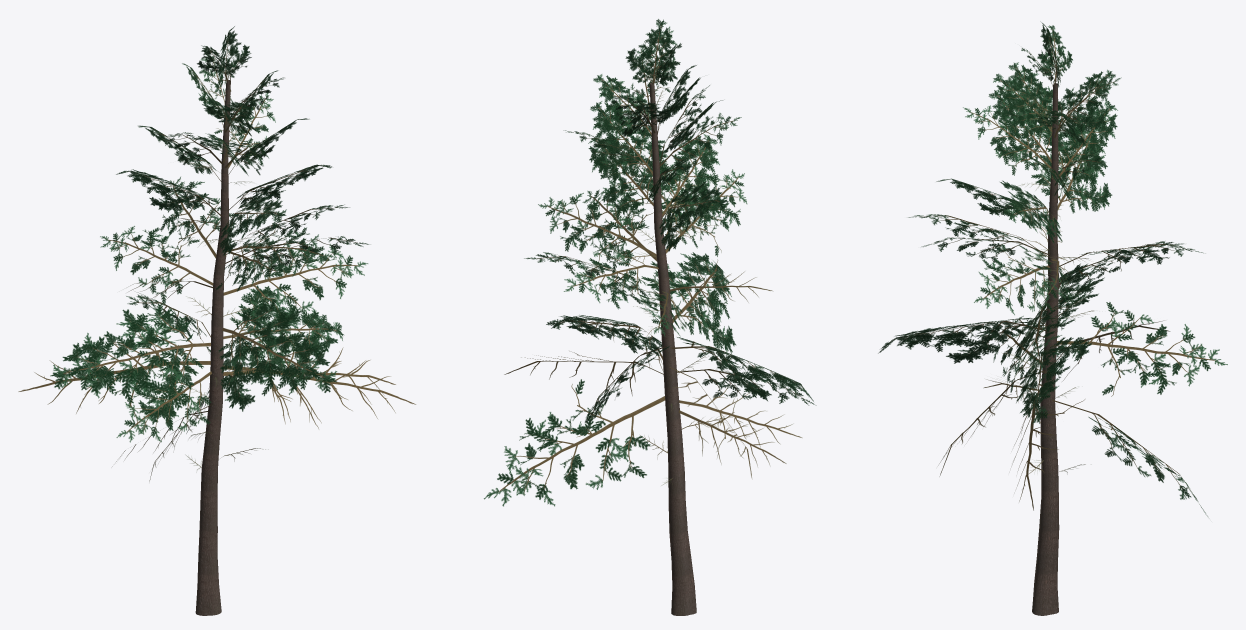
The picture shows the model from 3 angles, left to right: view 1: azimuth 30°, elevation 25°; view 2: azimuth 150°, elevation 25°; view 3: azimuth 270°, elevation 25°; orthographic projection. The views are drawn at different scales.
Visible parts, largest first — view 1: Pine_Tree_Lowpoly__03; view 2: Pine_Tree_Lowpoly__03; view 3: Pine_Tree_Lowpoly__03.
Boxes of the visible parts, x1,y1,x2,y2 form: Pine_Tree_Lowpoly__03: (18,26,415,615); Pine_Tree_Lowpoly__03: (484,19,816,615); Pine_Tree_Lowpoly__03: (878,21,1227,615).
Bounding box in the file's own units: 0.1713 × 0.2799 × 0.1527.
Materials: 4 (4 with a texture image).
